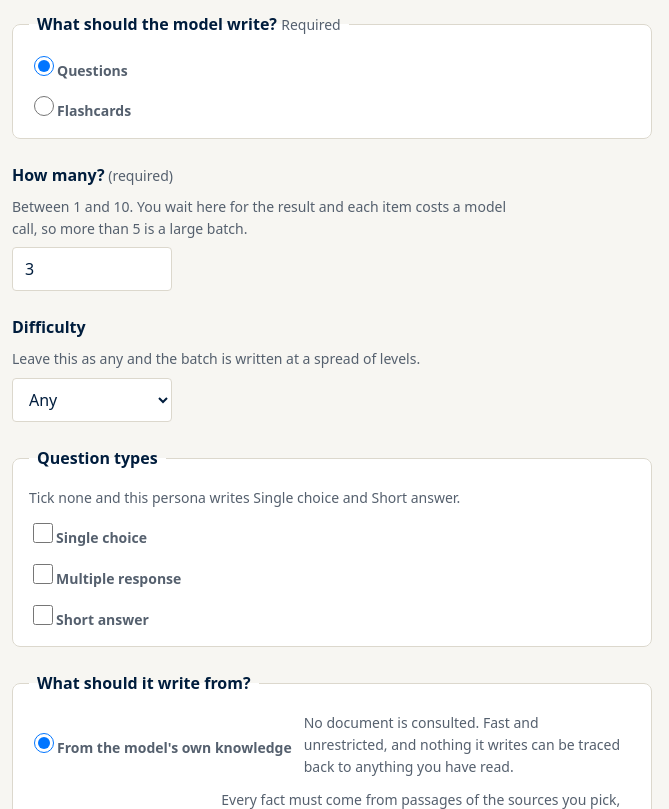
Test: GenerationForm › what it offers › names the HSK persona's own defaults for the same control
Check: the text "writes Single choice and Short answer" is shown, box [29,487,526,508]
Click the radio button labelled "Flashcards" at (44, 106), box [34,96,54,116]
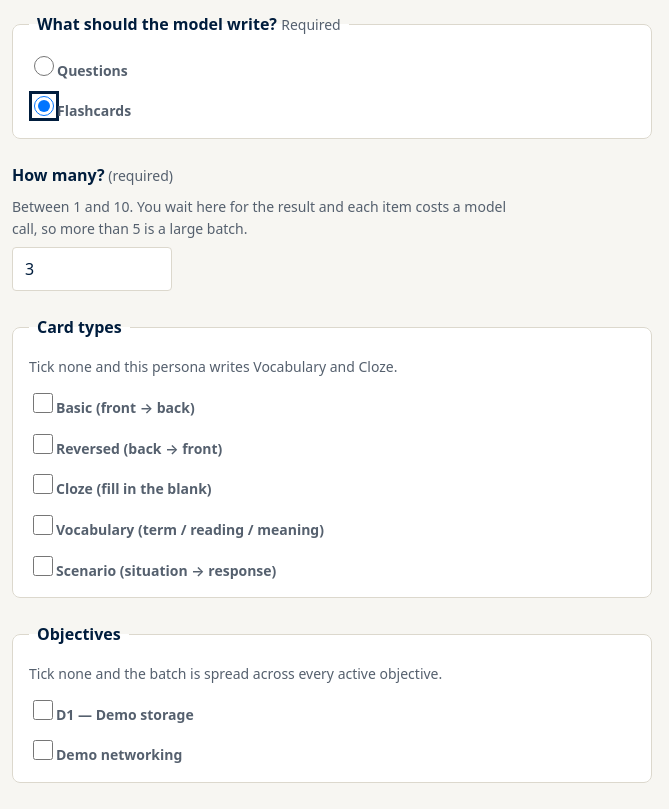
Check: the text "Tick none and this persona writes Vocabulary and Cloze." is shown, box [29,357,398,376]
